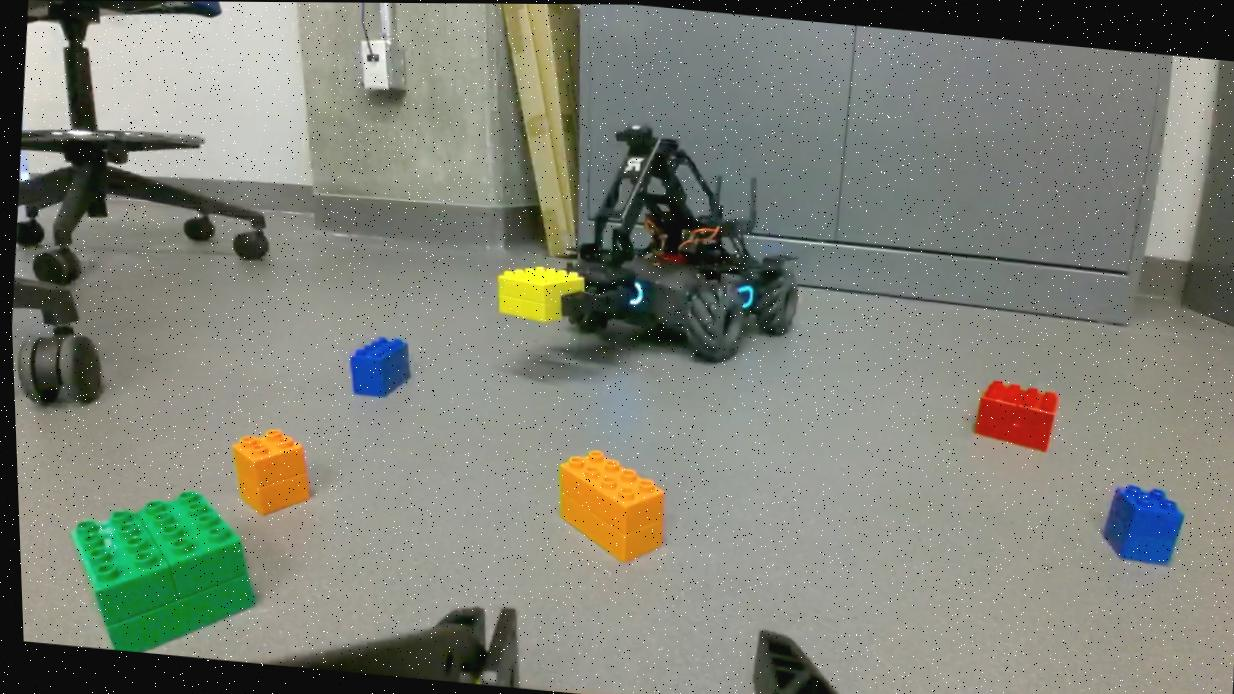2x2lego: (223, 423, 312, 519), (1094, 476, 1185, 566)
2x4lego: (548, 444, 668, 565), (342, 333, 414, 401)
4x4lego: (54, 471, 265, 663), (963, 374, 1060, 451)
